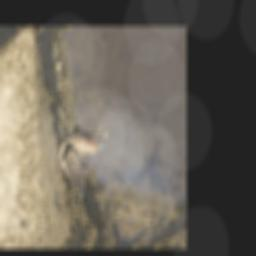Swallow: (43, 117, 113, 199)
